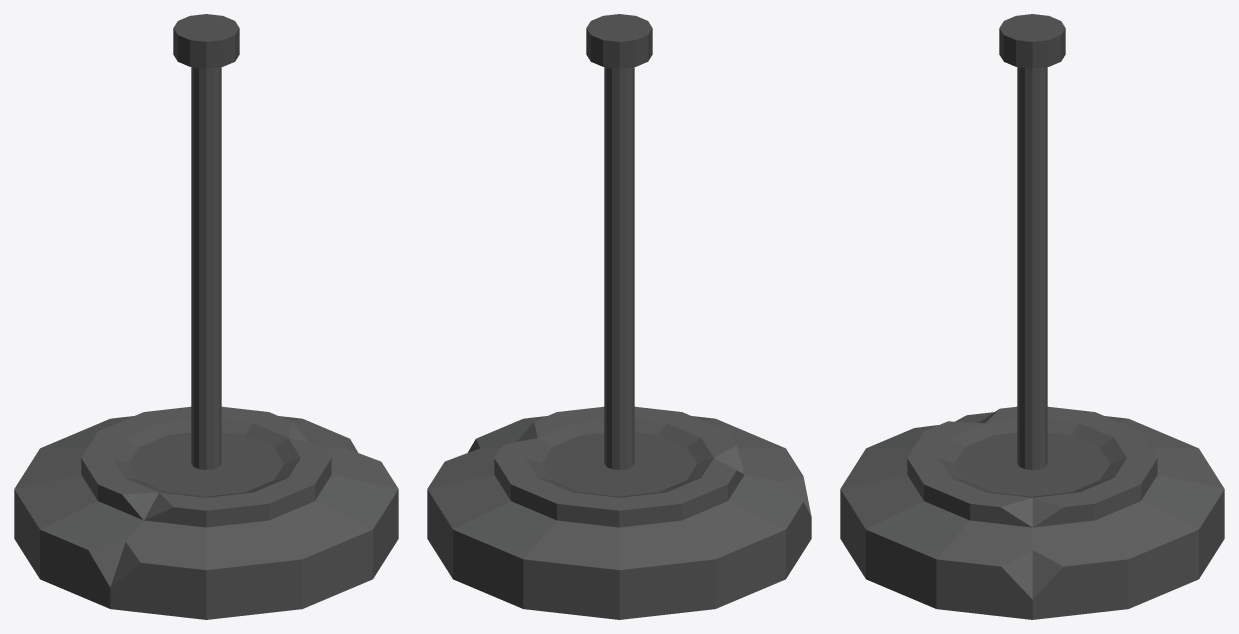
File: Fish_Head_Stand_002.fbx
3 renders of one model, left to right at view 1: azimuth 30°, elevation 25°; view 2: azimuth 150°, elevation 25°; view 3: azimuth 270°, elevation 25°, orthographic.
Visible parts, largest first — view 1: Fish_Head_Stand_002; view 2: Fish_Head_Stand_002; view 3: Fish_Head_Stand_002.
Boxes of the visible parts, x1,y1,x2,y2 form: Fish_Head_Stand_002: (14,14,398,619); Fish_Head_Stand_002: (427,14,811,619); Fish_Head_Stand_002: (840,14,1224,619).
Bounding box in the file's own units: 0.3872 × 0.5677 × 0.3872.
